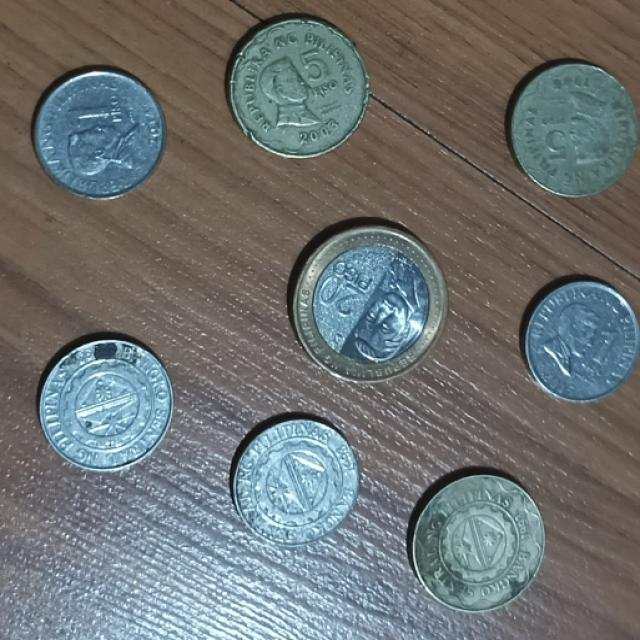1_peso: (40, 340, 172, 470), (34, 70, 162, 199), (232, 419, 358, 546), (525, 281, 639, 400)
20_peso: (291, 224, 447, 382)
5_peso: (227, 18, 368, 157), (412, 475, 544, 611), (510, 63, 638, 196)
